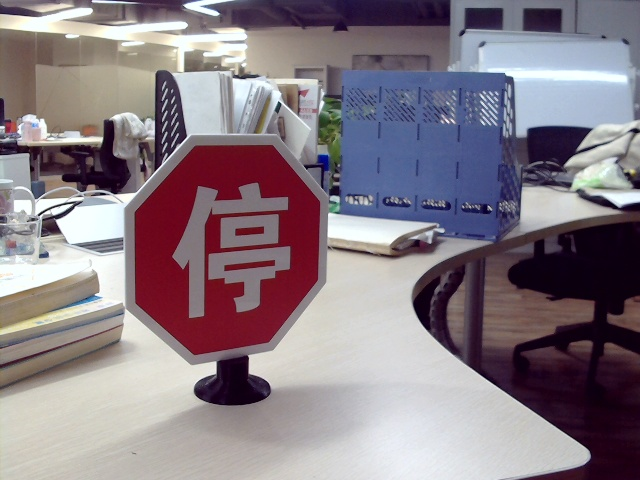stop: (169, 178, 295, 316)
